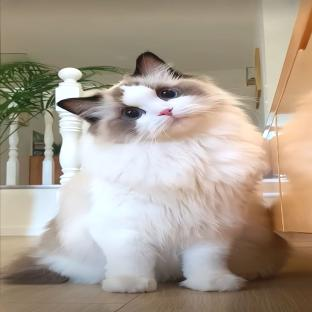Animal: (4, 52, 290, 293)
